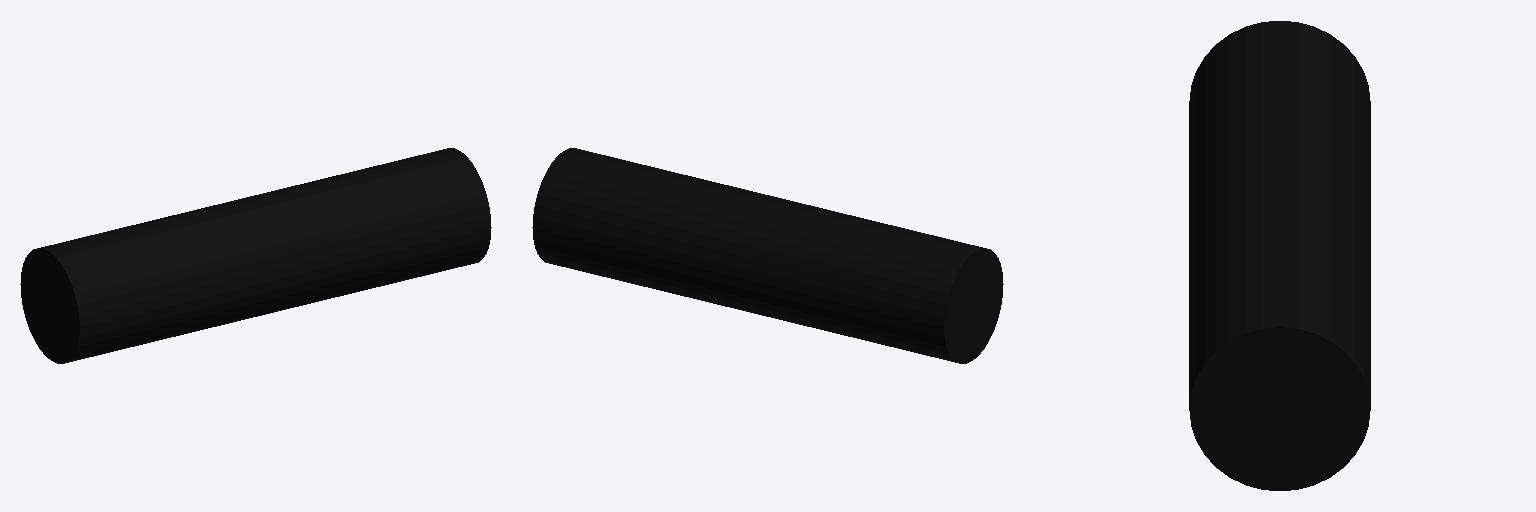
URDF robot description (gripper):
<?xml version="1.0" ?>
<robot name="gripper">
  <link name="baseLink">
    <inertial>
      <origin rpy="0 0 0" xyz="0 0 0"/>
       <mass value="0.1"/>
       <inertia ixx="0.1" ixy="0" ixz="0" iyy="0.1" iyz="0" izz="0.1"/>
    </inertial>
    <visual>
      <origin rpy="0 0 0" xyz="0 0.0 0.0"/>
      <geometry>
			<mesh filename="tool_mesh/base_m.stl"/>
      </geometry>
       <material name="grey">
        <color rgba="0.5 0.5 0.5 1.0"/>
      </material>
    </visual>
  </link>

  <joint name="gripping_trafo" type="fixed">
		<parent link="baseLink"/>
		<child link="tcp"/>
		<origin xyz="0.3 0.0 0.1" rpy="0 -1.57075 0"/>
  </joint>

  <link name="tcp">
    <contact>
      <lateral_friction value="1.0"/>
      <spinning_friction value="0.2"/>
      <rolling_friction value="0.001"/>
      <contact_cfm value="0.0"/>
      <contact_erp value="0.8"/>

      <damping value="1000"/>
      <stiffness value="30000"/>
    </contact>
    <visual>
        <origin xyz="0 0 0.1" rpy="0 0 0"/>
        <geometry>
           <cylinder length="0.08" radius="0.01"/>
        </geometry>
        <material name="black">
            <color rgba="0.1 0.1 0.1 1.0"/>
        </material>
    </visual>

    <collision>
       <origin xyz="0 0 0.1" rpy="0 0 0"/>
       <geometry>
           <cylinder length="0.08" radius="0.01"/>
       </geometry>
    </collision>
  </link>

</robot>

--- Facts derived from the render (not from the file) ---
3 views of the same robot in one strip: view 1: azimuth 30°, elevation 25°; view 2: azimuth 150°, elevation 25°; view 3: azimuth 270°, elevation 25° (orthographic).
Robot: gripper — 2 links, 1 joints (1 fixed); root link baseLink; default pose: every joint at zero.
Links seen in each view (by area): view 1: tcp; view 2: tcp; view 3: tcp.
Link boxes in pixels (box(x1,y1,x2,y2)): tcp: box(20, 148, 491, 363); tcp: box(532, 148, 1003, 363); tcp: box(1189, 21, 1370, 490).
Size in the robot's own frame: 0.08 by 0.02 by 0.02 metres.
0 mesh visuals loaded from 1 distinct referenced files (none loaded); not drawn: 1 (reference not matched to a file when rendering).